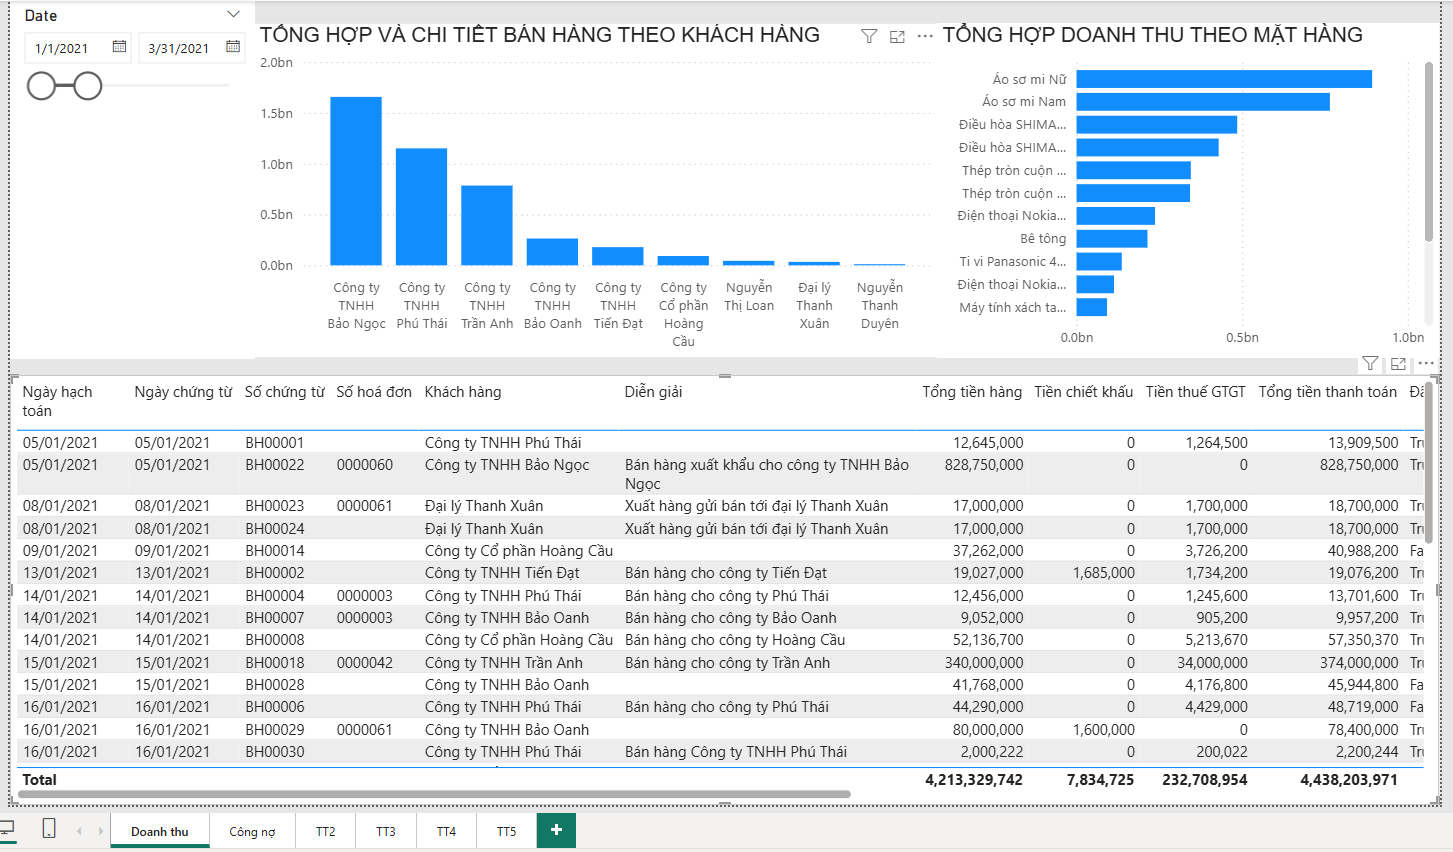

The dashboard page shown, as its layout file describes it:
{"tool":"powerbi","page":{"name":"Doanh thu","canvas":[1280,720],"ordinal":0},"visuals":[{"type":"columnChart","title":"TỔNG HỢP VÀ CHI TIẾT BÁN HÀNG  THEO KHÁCH HÀNG","fields":{"Category":["item_acc_revenue.AccountObjectNameDI"],"Y":["item_acc_revenue.total_revenue"]},"box":[218.5,19.7,612.5,300],"z":0},{"type":"clusteredBarChart","title":"TỔNG HỢP DOANH THU THEO MẶT HÀNG","fields":{"Category":["item_acc_revenue.InventoryItemName"],"Y":["item_acc_revenue.total_revenue"]},"box":[830.1,19.7,449.6,300],"z":1000},{"type":"tableEx","fields":{"Values":["item_acc_revenue.PostedDate","item_acc_revenue.RefDate","item_acc_revenue.RefNo","item_acc_revenue.InvNo","item_acc_revenue.AccountObjectNameDI","item_acc_revenue.JournalMemo","item_acc_revenue.total_revenue","item_acc_revenue.DiscountAmount","item_acc_revenue.VATAmount","item_acc_revenue.ReceiptAmount","item_acc_revenue.IsInvoiceExported","item_acc_revenue.IsOutwardExported"]},"box":[0,334.9,1279.7,385.1],"z":2000},{"type":"slicer","fields":{"Values":["DATE.Date"]},"box":[0,0,219.4,319.7],"z":3000}]}

Visuals, with their boxes on the page's 1280x720 design canvas (x1, y1, x2, y2). These are canvas units, not pixel positions in the 1453x852 screenshot, which may show the page scaled, cropped or inside an application window:
"TỔNG HỢP VÀ CHI TIẾT BÁN HÀNG  THEO KHÁCH HÀNG" columnChart: 218/20/831/320
"TỔNG HỢP DOANH THU THEO MẶT HÀNG" clusteredBarChart: 830/20/1280/320
tableEx - item_acc_revenue.PostedDate x item_acc_revenue.RefDate: 0/335/1280/720
slicer - DATE.Date: 0/0/219/320
